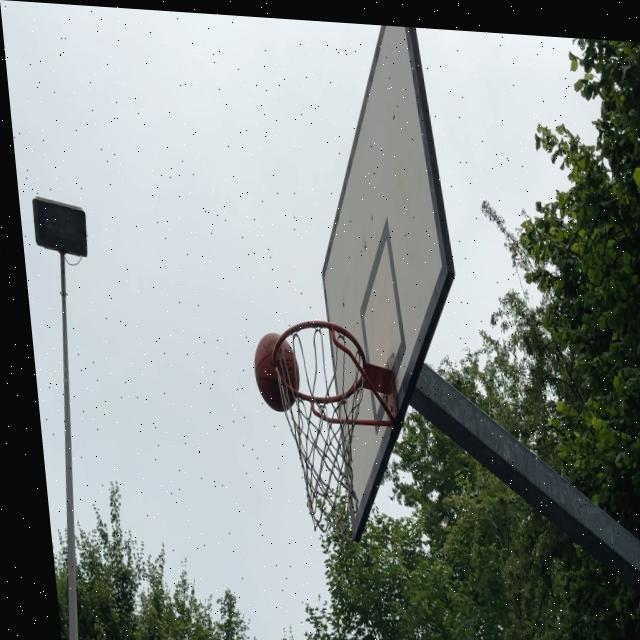rebound_hit: (251, 329, 303, 414)
